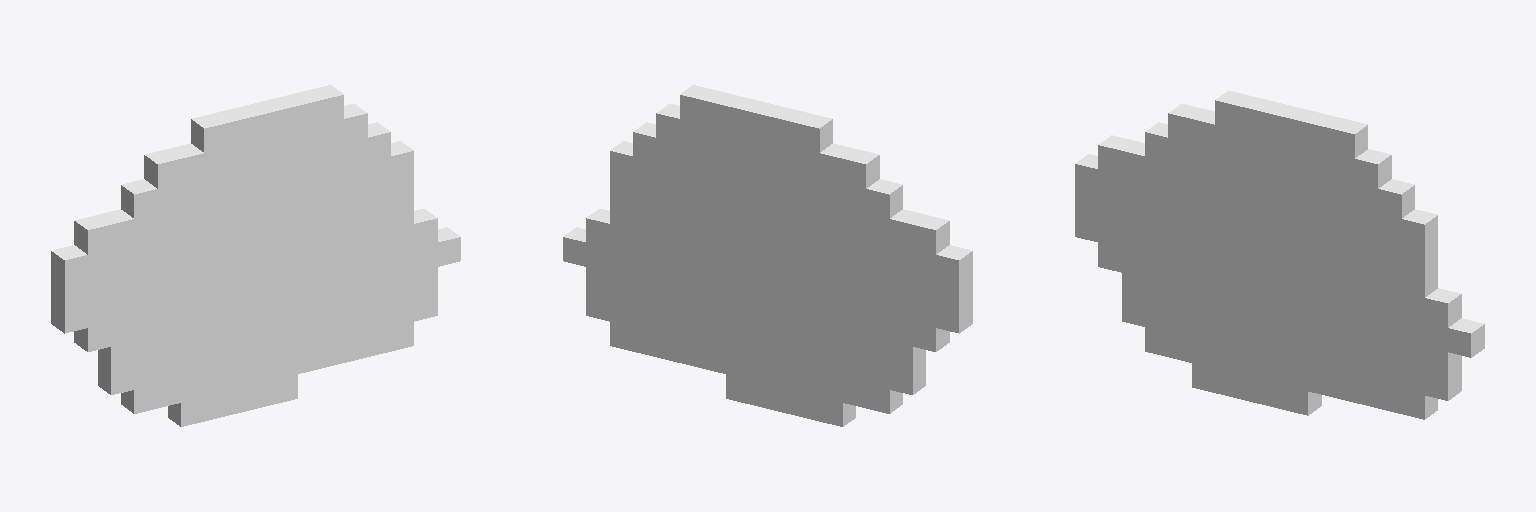
The model's file is bird-2.obj.
3 renders of one model, left to right at view 1: azimuth 30°, elevation 25°; view 2: azimuth 150°, elevation 25°; view 3: azimuth 330°, elevation 25°, orthographic.
Visible parts, largest first — view 1: object 1; view 2: object 1; view 3: object 1.
Part boxes in pixels (left/top/right/bottom): object 1: left=51, top=85, right=460, bottom=426; object 1: left=563, top=85, right=972, bottom=426; object 1: left=1075, top=90, right=1484, bottom=419.
Bounding box in the file's own units: 1.7 × 1.2 × 0.1.